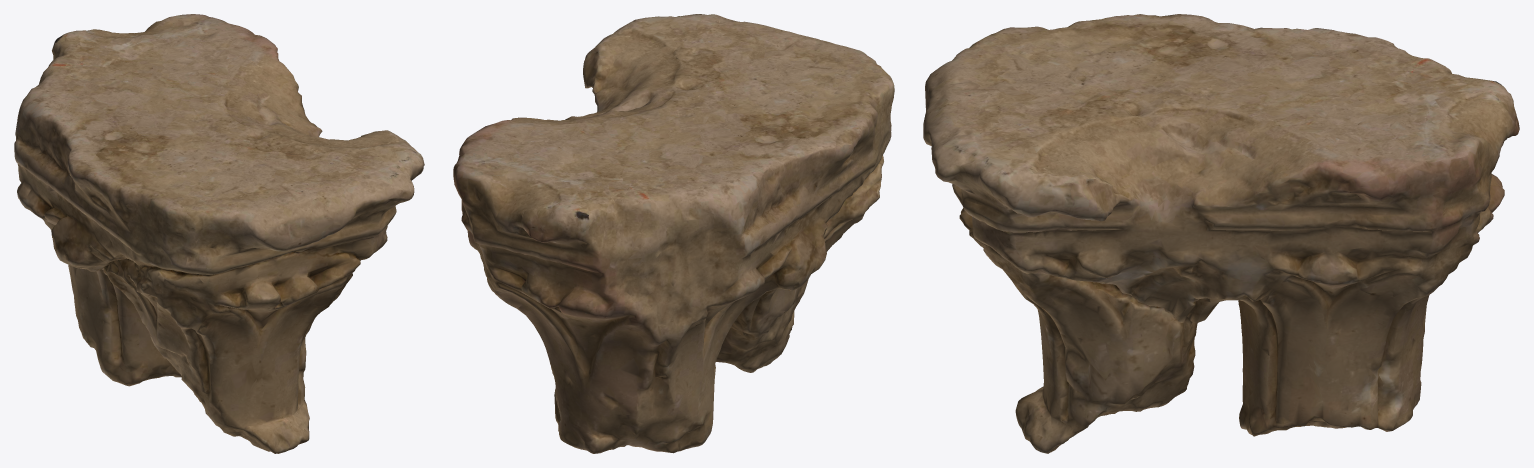
3 renders of one model, left to right at view 1: azimuth 30°, elevation 25°; view 2: azimuth 150°, elevation 25°; view 3: azimuth 270°, elevation 25°, orthographic. The views are drawn at different scales.
Parts seen in each view (by area): view 1: HS39_25K; view 2: HS39_25K; view 3: HS39_25K.
Boxes of the visible parts, box(x1,y1,x2,y2) form: HS39_25K: box(14, 14, 424, 453); HS39_25K: box(453, 14, 894, 453); HS39_25K: box(923, 14, 1519, 453).
Size of the model in its own units: 0.2624 by 0.2499 by 0.3904.
Materials: 1 (1 with a texture image).
